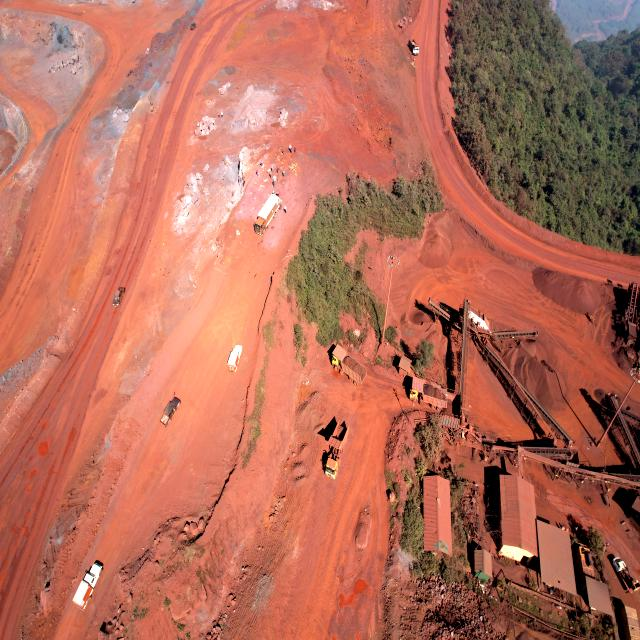Dumper truck: (330, 342, 368, 385), (324, 422, 348, 480), (410, 380, 449, 407), (409, 37, 419, 57)
car: (74, 555, 104, 608), (163, 394, 179, 425), (226, 344, 242, 374), (110, 287, 126, 306), (191, 22, 197, 32)
person: (284, 206, 287, 213), (272, 179, 275, 186), (256, 170, 259, 176), (294, 146, 296, 152), (282, 148, 284, 154)
